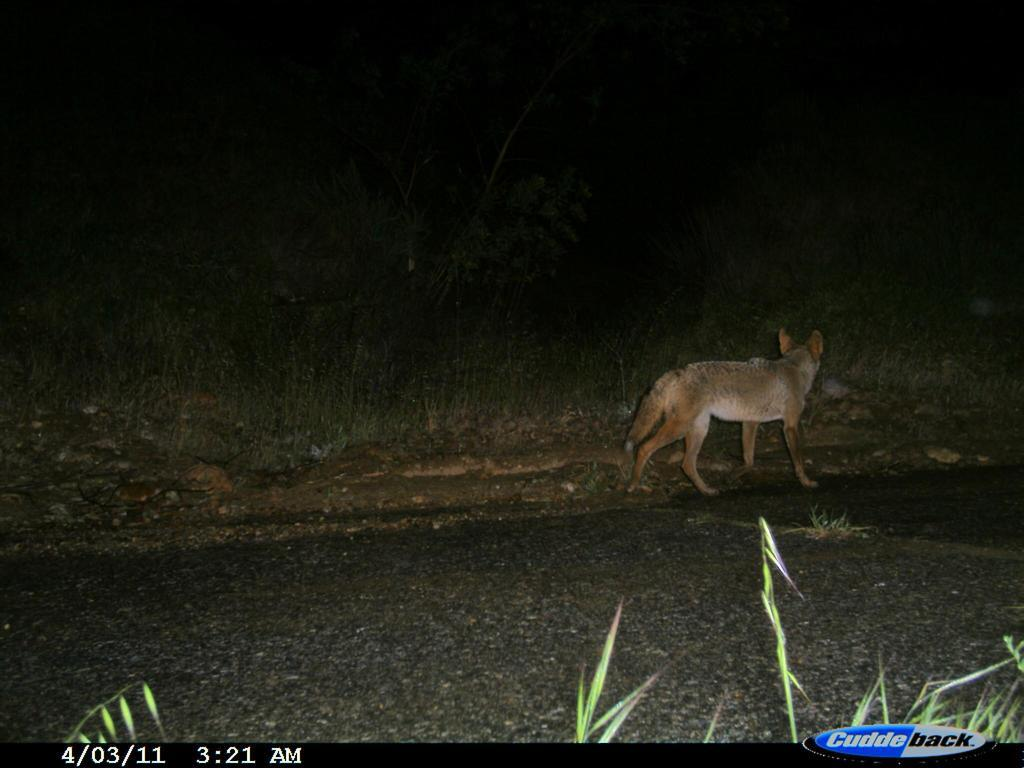coyote: (621, 315, 838, 501)
